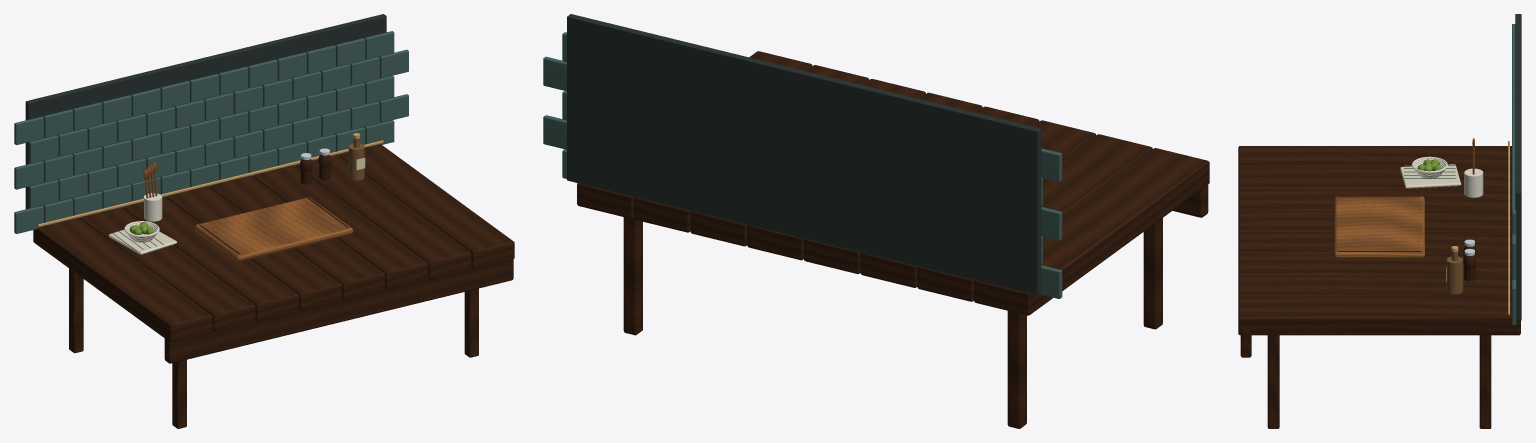
File: kitchen.glb
3 views of the same model, side by side, from view 1: azimuth 30°, elevation 25°; view 2: azimuth 150°, elevation 25°; view 3: azimuth 270°, elevation 25° (orthographic). The views are drawn at different scales.
Visible parts, largest first — view 1: kitchen_geometry; view 2: kitchen_geometry; view 3: kitchen_geometry.
Part boxes in pixels (x1,y1,x2,y2): kitchen_geometry: (14, 14, 514, 428); kitchen_geometry: (543, 14, 1209, 428); kitchen_geometry: (1238, 14, 1521, 428).
Bounding box in the file's own units: 5.93 × 3.52 × 3.61.
Materials: 19 (2 with a texture image).
